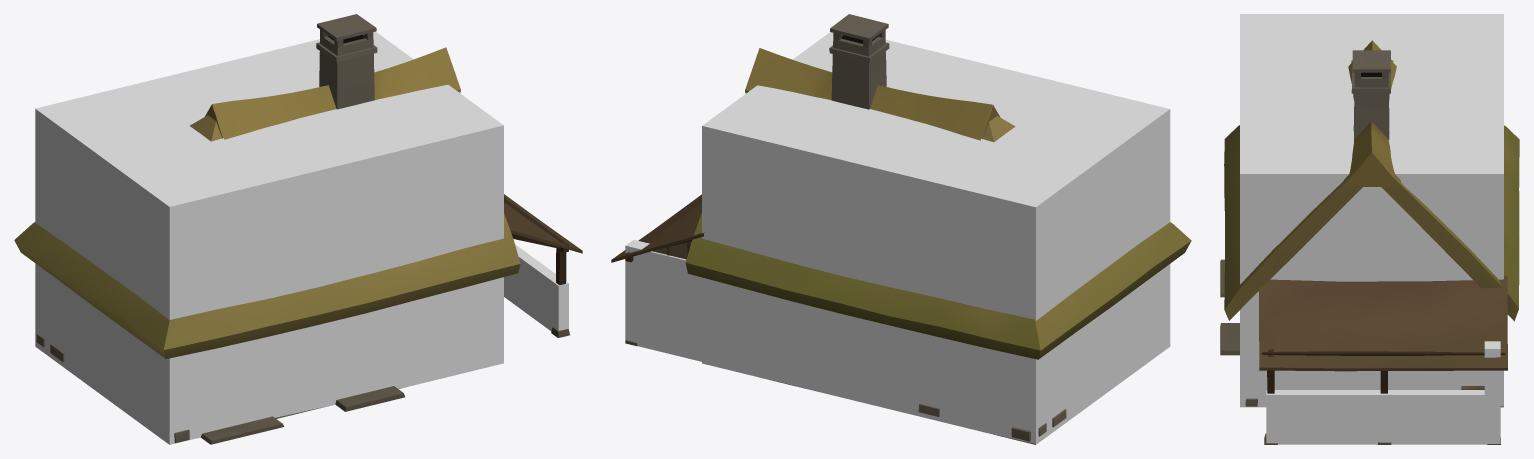
File: house_c.glb
3 renders of one model, left to right at view 1: azimuth 30°, elevation 25°; view 2: azimuth 150°, elevation 25°; view 3: azimuth 270°, elevation 25°, orthographic.
Visible parts, largest first — view 1: COL_body, house_c, COL_shed_side; view 2: COL_body, house_c, COL_shed; view 3: COL_body, house_c, COL_shed_side, COL_shed.
Boxes of the visible parts, left/top/right/bottom form: COL_body: left=35, top=31, right=503, bottom=444; house_c: left=14, top=14, right=582, bottom=444; COL_shed_side: left=504, top=244, right=568, bottom=331; COL_body: left=702, top=32, right=1170, bottom=444; house_c: left=611, top=14, right=1191, bottom=444; COL_shed: left=625, top=240, right=701, bottom=361; COL_body: left=1240, top=14, right=1503, bottom=407; house_c: left=1220, top=40, right=1519, bottom=444; COL_shed_side: left=1266, top=390, right=1497, bottom=444; COL_shed: left=1484, top=341, right=1500, bottom=444.
Bounding box in the file's own units: 10.77 × 7.31 × 6.52.
